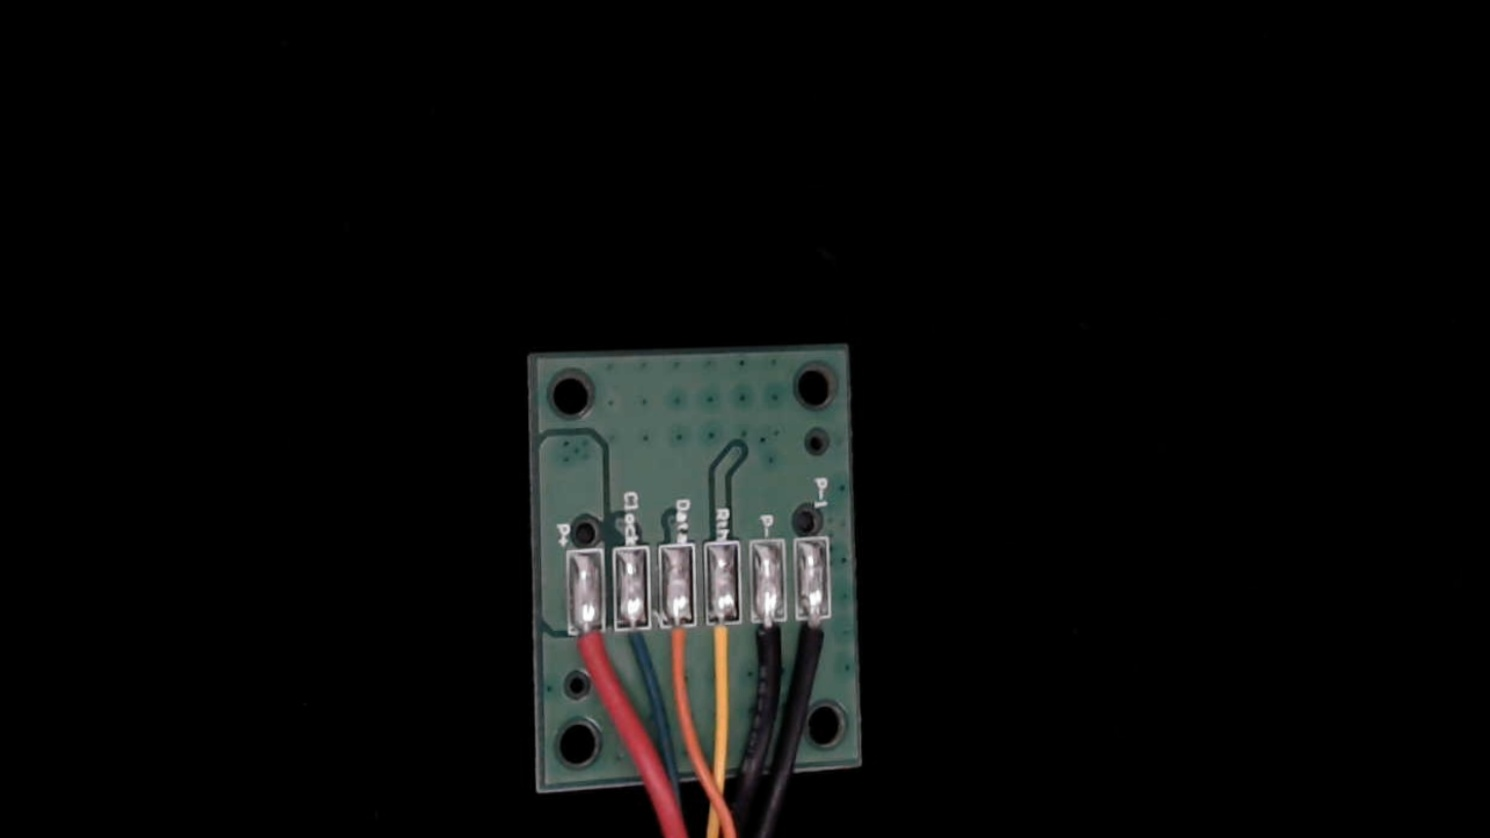Black: (749, 600, 789, 696)
Black1: (796, 598, 836, 688)
Green: (614, 604, 651, 686)
Orange: (659, 603, 697, 700)
Red: (564, 610, 606, 704)
Yellow: (701, 603, 742, 701)
